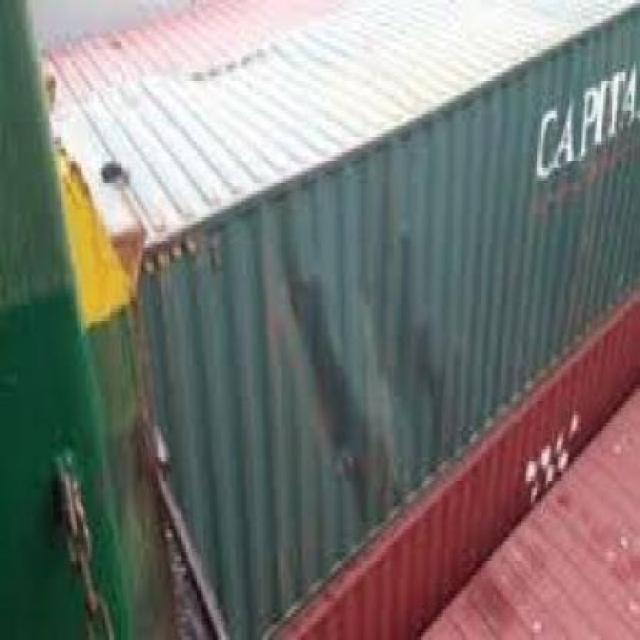dent: (269, 234, 404, 537), (355, 236, 452, 481)
